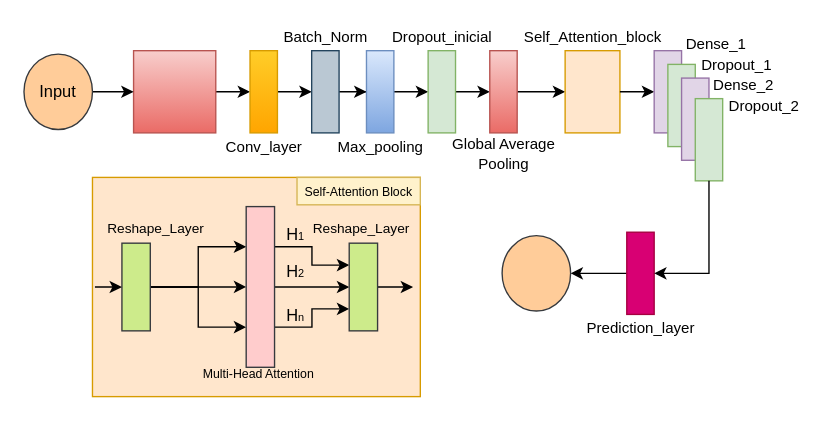
Image size: 829x421. Some labels were removed from this diagram. Here are the shapes that lost their labels. From the top down, the centre of each, then its label:
(174,91): ResNet50
(536,272): Output
